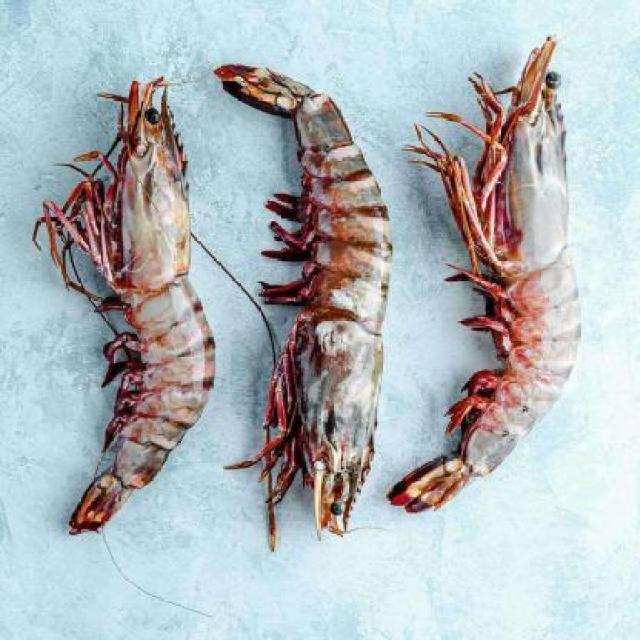shrimp: (394, 17, 599, 520), (217, 56, 405, 539), (62, 60, 235, 535)
